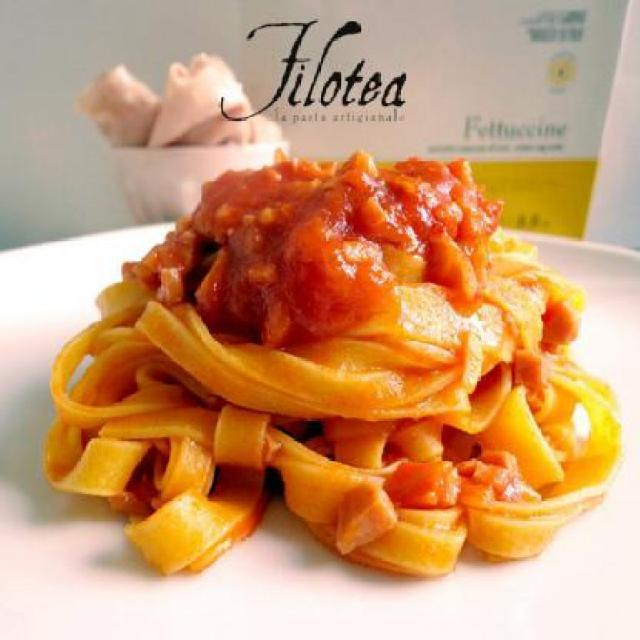Pasta al ragu: (60, 127, 629, 590)
